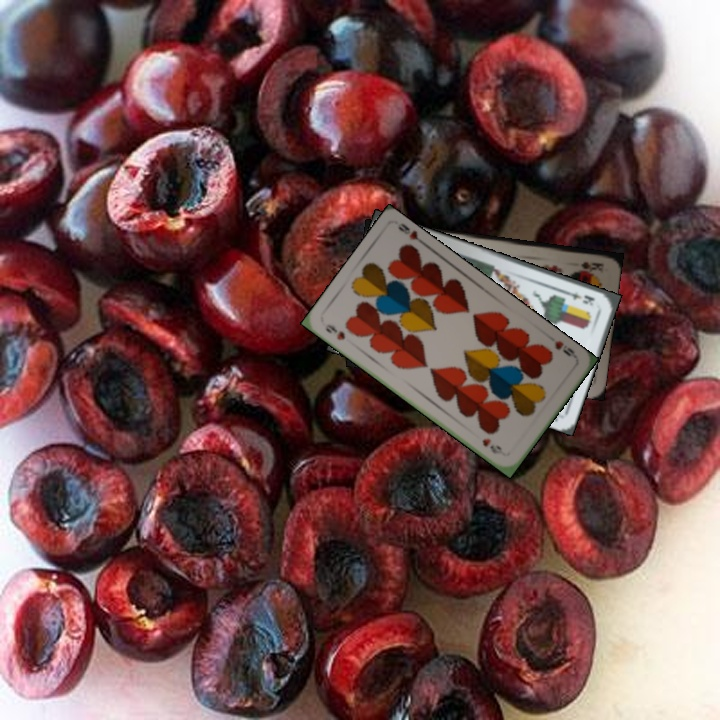EK: (562, 287, 598, 308)
H9: (551, 336, 579, 361), (321, 320, 348, 343)
SK: (577, 257, 606, 274)
